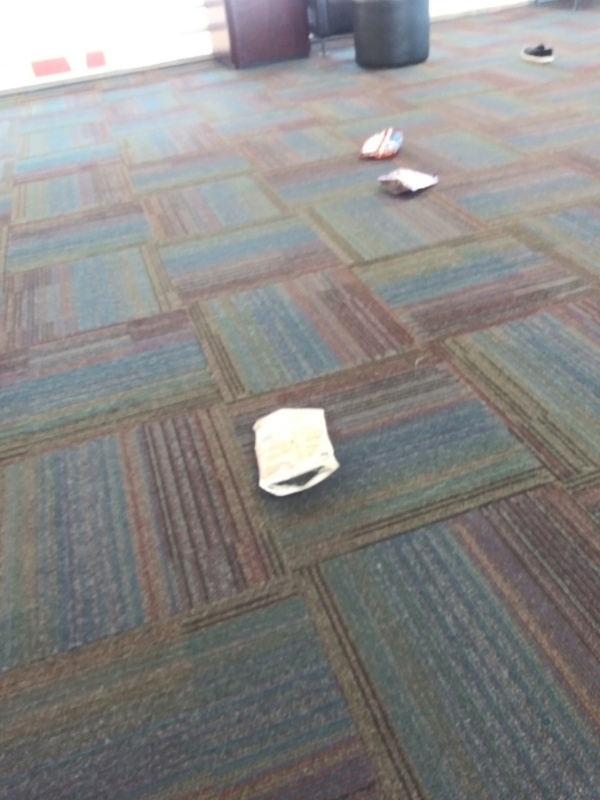bag: (250, 402, 352, 502), (372, 164, 447, 199), (358, 124, 410, 159)
